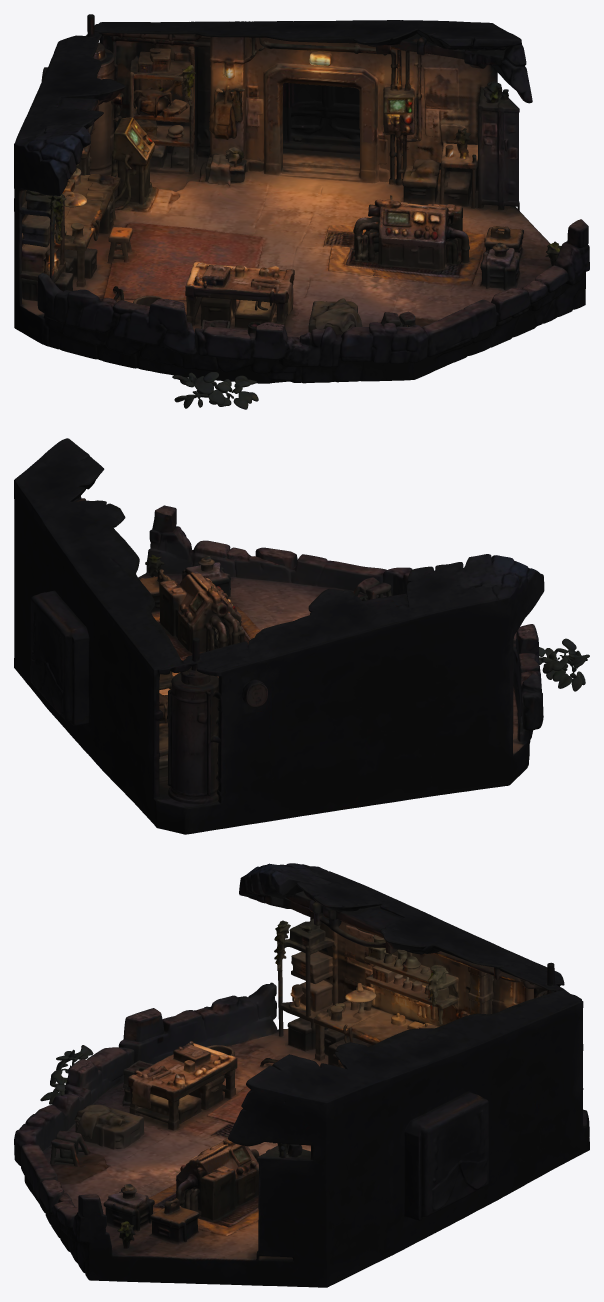
File: shelter-room.glb
3 renders of one model, top to bottom at view 1: azimuth 30°, elevation 25°; view 2: azimuth 150°, elevation 25°; view 3: azimuth 270°, elevation 25°, orthographic. The views are drawn at different scales.
Parts seen in each view (by area): view 1: tripo_node_a630b3e9-bcec-418d-9370-2f6f8f9d90d4; view 2: tripo_node_a630b3e9-bcec-418d-9370-2f6f8f9d90d4; view 3: tripo_node_a630b3e9-bcec-418d-9370-2f6f8f9d90d4.
Boxes of the visible parts, left/top/right/bottom form: tripo_node_a630b3e9-bcec-418d-9370-2f6f8f9d90d4: left=14, top=14, right=589, bottom=409; tripo_node_a630b3e9-bcec-418d-9370-2f6f8f9d90d4: left=14, top=438, right=589, bottom=834; tripo_node_a630b3e9-bcec-418d-9370-2f6f8f9d90d4: left=14, top=863, right=589, bottom=1287.
Size of the model in its own units: 0.9711 by 0.3997 by 1.
Materials: 1 (1 with a texture image).
